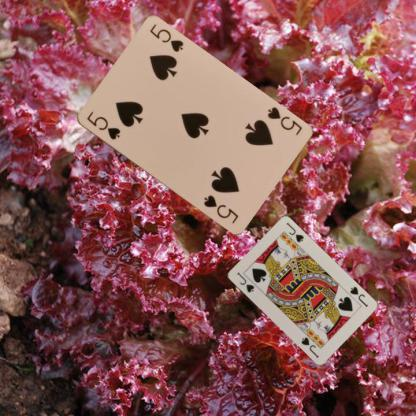5s: (264, 103, 303, 136), (84, 108, 122, 141)
Js: (347, 284, 369, 308), (234, 270, 255, 294)
